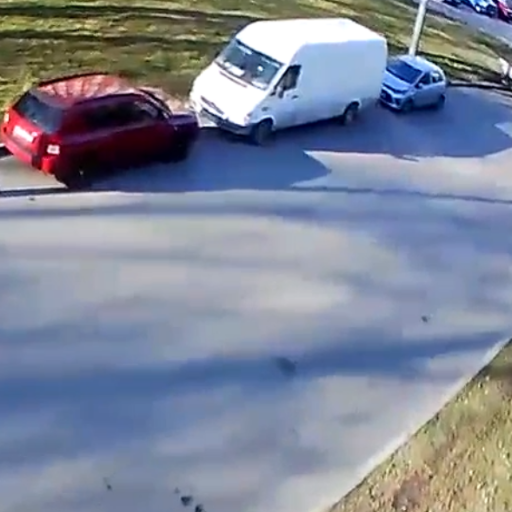Car: (188, 17, 384, 139), (2, 71, 196, 179), (380, 53, 445, 112)
